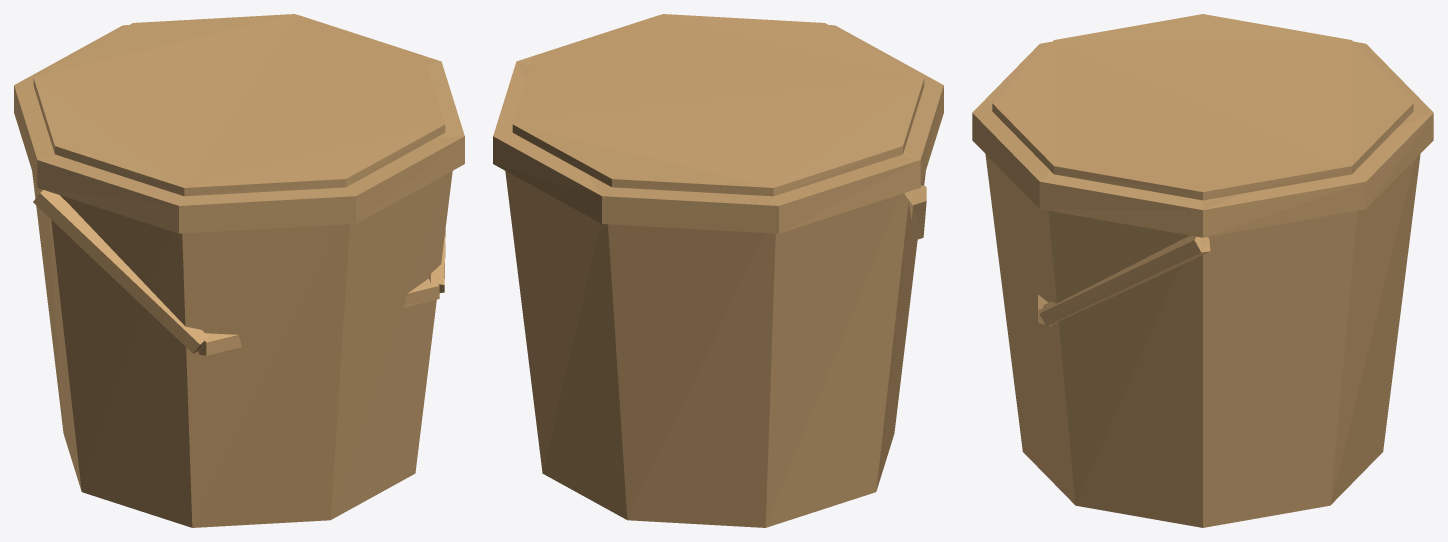
Rendered from bucket-00.glb.
3 renders of one model, left to right at view 1: azimuth 30°, elevation 25°; view 2: azimuth 150°, elevation 25°; view 3: azimuth 270°, elevation 25°, orthographic.
Visible parts, largest first — view 1: bucket_00; view 2: bucket_00; view 3: bucket_00.
Boxes of the visible parts, x1,y1,x2,y2 form: bucket_00: (14, 14, 464, 527); bucket_00: (493, 14, 943, 527); bucket_00: (972, 14, 1433, 527).
Size of the model in its own units: 0.3122 by 0.2536 by 0.3042.
